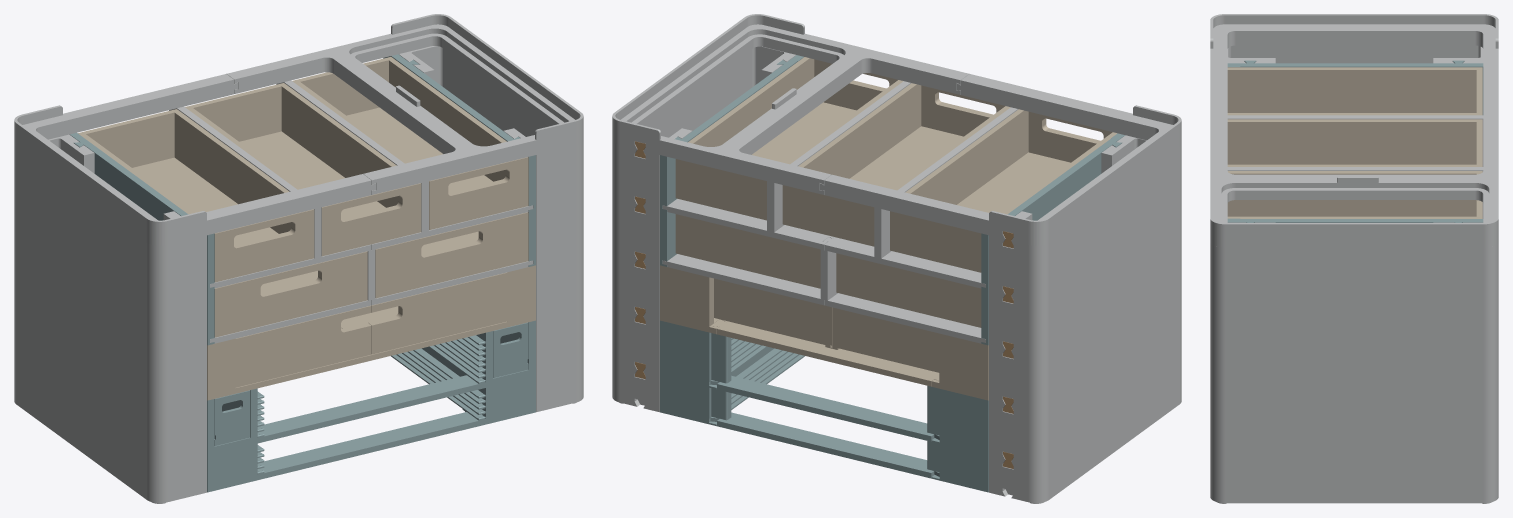
Rendered from overstack-assembly.glb.
3 views of the same model, side by side, from view 1: azimuth 30°, elevation 25°; view 2: azimuth 150°, elevation 25°; view 3: azimuth 270°, elevation 25° (orthographic).
Visible parts, largest first — view 1: F02, E04, E03, F01, E05, E06, B07, C09, D04, D02, D03, A05 (+26 smaller); view 2: F02, F01, E04, E03, E06, E05, C09, B07, D04, A05, E07, D02 (+26 smaller); view 3: F02, D05, E07, B08, C10, E03, E04, F01, A06, E05, E06, E14 (+3 smaller).
Boxes of the visible parts, left/top/right/bottom form: F02: left=226, top=14, right=583, bottom=194; E04: left=185, top=83, right=421, bottom=256; E03: left=78, top=109, right=314, bottom=282; F01: left=14, top=74, right=375, bottom=245; E05: left=292, top=57, right=528, bottom=229; E06: left=14, top=134, right=206, bottom=300; B07: left=14, top=310, right=206, bottom=466; C09: left=14, top=255, right=206, bottom=411; D04: left=14, top=200, right=206, bottom=355; D02: left=214, top=251, right=367, bottom=337; D03: left=375, top=212, right=528, bottom=298; A05: left=14, top=365, right=206, bottom=503; F02: left=612, top=14, right=969, bottom=194; F01: left=820, top=74, right=1181, bottom=245; E04: left=782, top=83, right=1010, bottom=246; E03: left=890, top=109, right=1116, bottom=272; E06: left=989, top=135, right=1181, bottom=300; E05: left=675, top=57, right=903, bottom=220; C09: left=989, top=255, right=1181, bottom=411; B07: left=989, top=310, right=1181, bottom=466; D04: left=989, top=200, right=1181, bottom=355; A05: left=989, top=365, right=1181, bottom=503; E07: left=612, top=46, right=795, bottom=209; D02: left=836, top=253, right=981, bottom=327; F02: left=1210, top=128, right=1498, bottom=247; D05: left=1210, top=298, right=1498, bottom=357; E07: left=1210, top=222, right=1498, bottom=302; B08: left=1210, top=407, right=1498, bottom=466; C10: left=1210, top=352, right=1498, bottom=411; E03: left=1227, top=67, right=1482, bottom=115; E04: left=1227, top=119, right=1482, bottom=166; F01: left=1210, top=14, right=1498, bottom=128; A06: left=1210, top=462, right=1498, bottom=503; E05: left=1227, top=171, right=1482, bottom=218; E06: left=1227, top=45, right=1483, bottom=63; E14: left=1227, top=60, right=1483, bottom=114.
Size of the model in its own units: 0.495 by 0.309 by 0.287.
